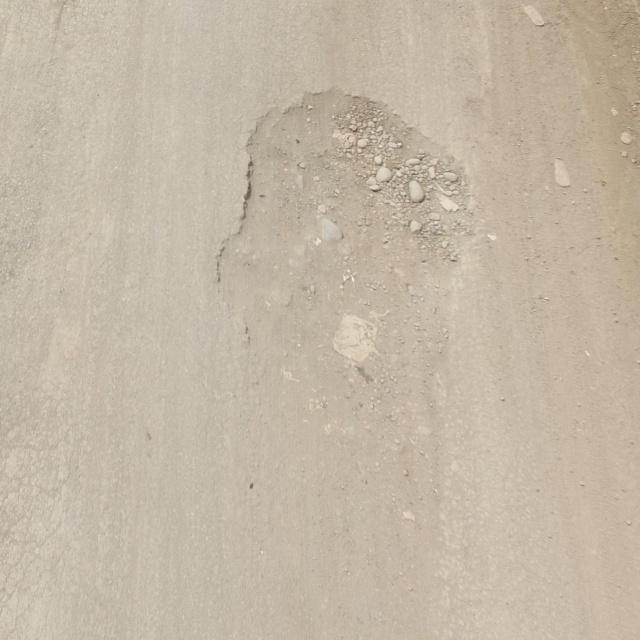BACHE: (223, 87, 474, 434)
